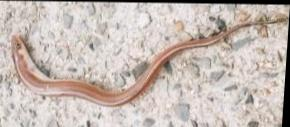fish: (13, 17, 289, 104)
